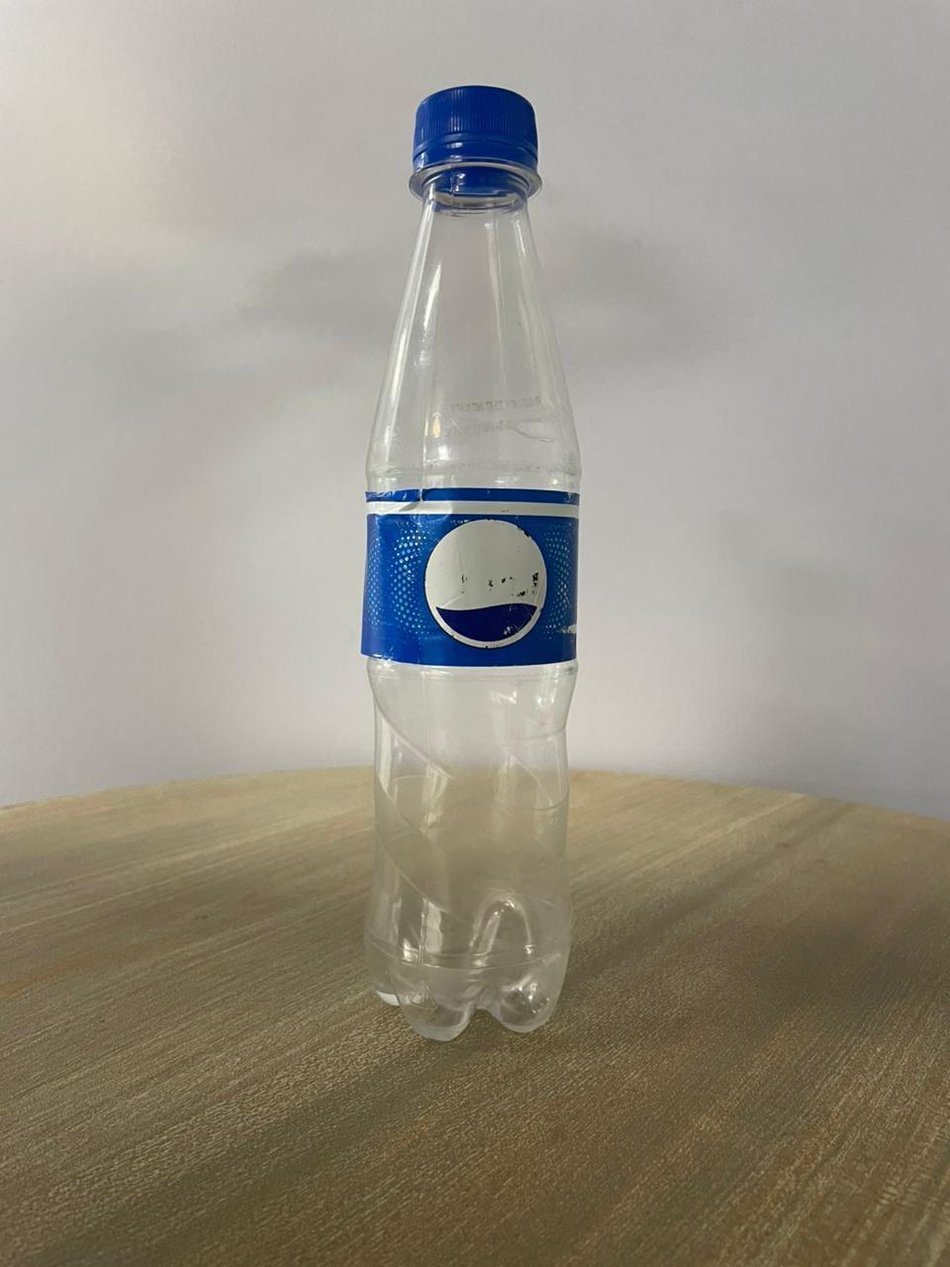Pepsi Bottle: (349, 52, 604, 1077), (351, 50, 604, 1071)
